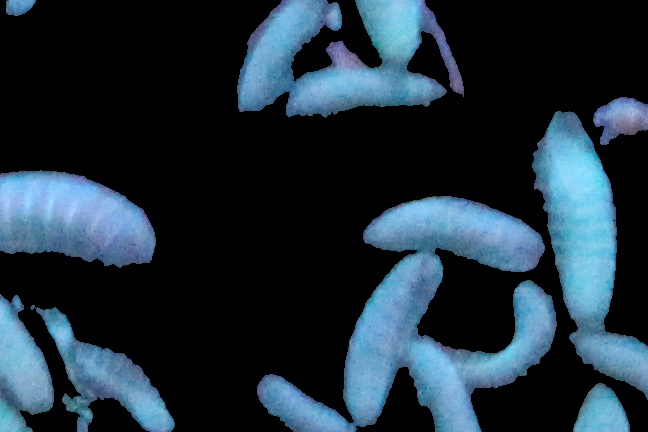larvae: (528, 102, 620, 323), (1, 164, 160, 275), (343, 252, 443, 419), (360, 191, 547, 271), (452, 276, 558, 389), (284, 67, 448, 133), (60, 341, 178, 431), (239, 1, 328, 114), (1, 279, 53, 414), (360, 1, 427, 69)
